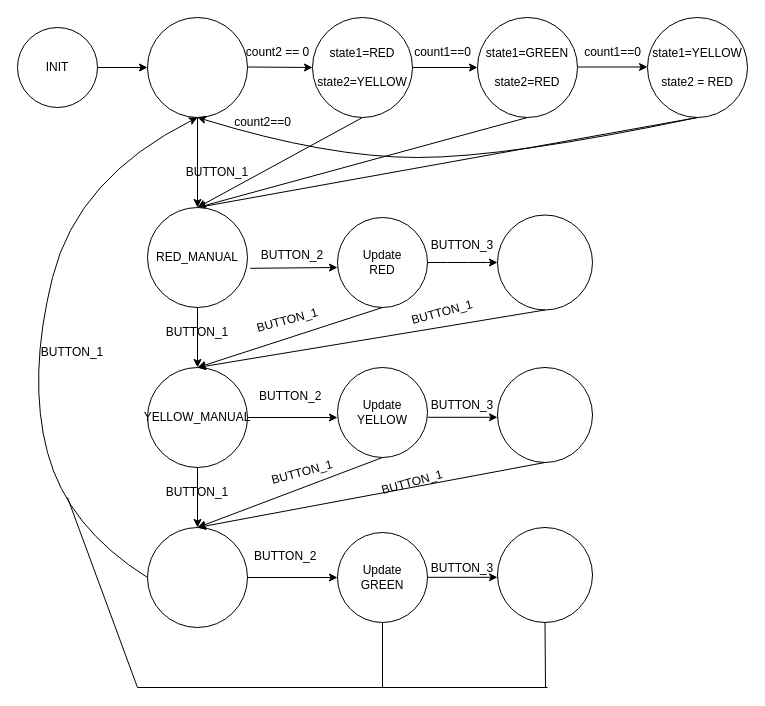
Image size: 765x706. Some labels were removed from this diagram. Each missing label, with the centre of its shape:
GREEN_MANUAL: (x=197, y=577)
Set GREEN: (x=544, y=574)
Set RED: (x=544, y=262)
Set YELLOW: (x=544, y=414)
state1 = RED state2=GREEN: (x=197, y=67)
